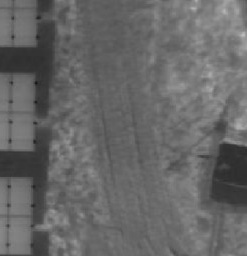solar: (5, 214, 33, 256), (11, 6, 39, 47), (8, 71, 36, 112), (8, 110, 36, 151), (6, 176, 34, 217)
